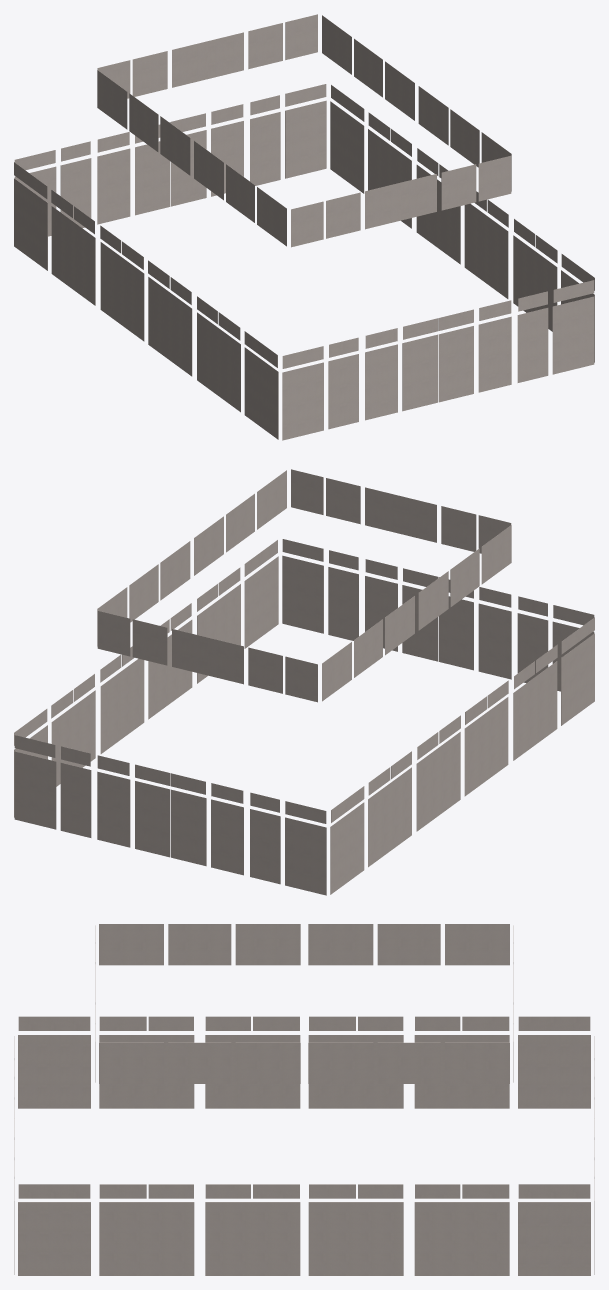
File: Dojo_Screens.fbx
The picture shows the model from 3 angles, top to bottom: view 1: azimuth 30°, elevation 25°; view 2: azimuth 150°, elevation 25°; view 3: azimuth 270°, elevation 25°; orthographic projection. The views are drawn at different scales.
Visible parts, largest first — view 1: poly_Dojo_Screens; view 2: poly_Dojo_Screens; view 3: poly_Dojo_Screens.
Part boxes in pixels (bbox=[...]): poly_Dojo_Screens: bbox=[14, 14, 594, 440]; poly_Dojo_Screens: bbox=[14, 469, 594, 895]; poly_Dojo_Screens: bbox=[14, 924, 594, 1275].
Bounding box in the file's own units: 14.92 × 8.67 × 21.84.
